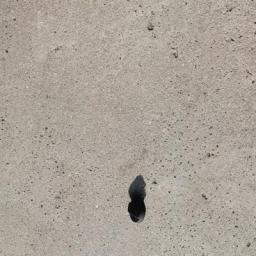FOD: (124, 174, 152, 226)
